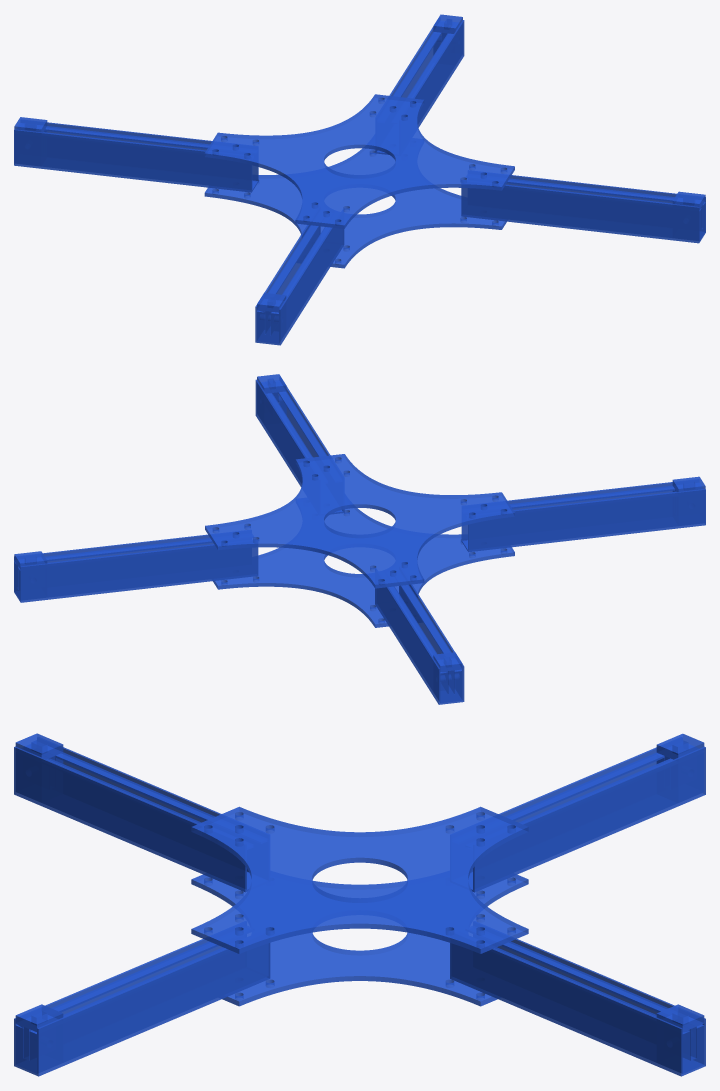
3 renders of one model, top to bottom at view 1: azimuth 30°, elevation 25°; view 2: azimuth 150°, elevation 25°; view 3: azimuth 270°, elevation 25°, orthographic. The views are drawn at different scales.
Visible parts, largest first — view 1: assam-Assembly; view 2: assam-Assembly; view 3: assam-Assembly.
Part boxes in pixels (x1,y1,x2,y2): assam-Assembly: (14,14,705,345); assam-Assembly: (14,374,705,704); assam-Assembly: (14,733,705,1076).
Size of the model in its own units: 63.43 by 5.8 by 63.42.
